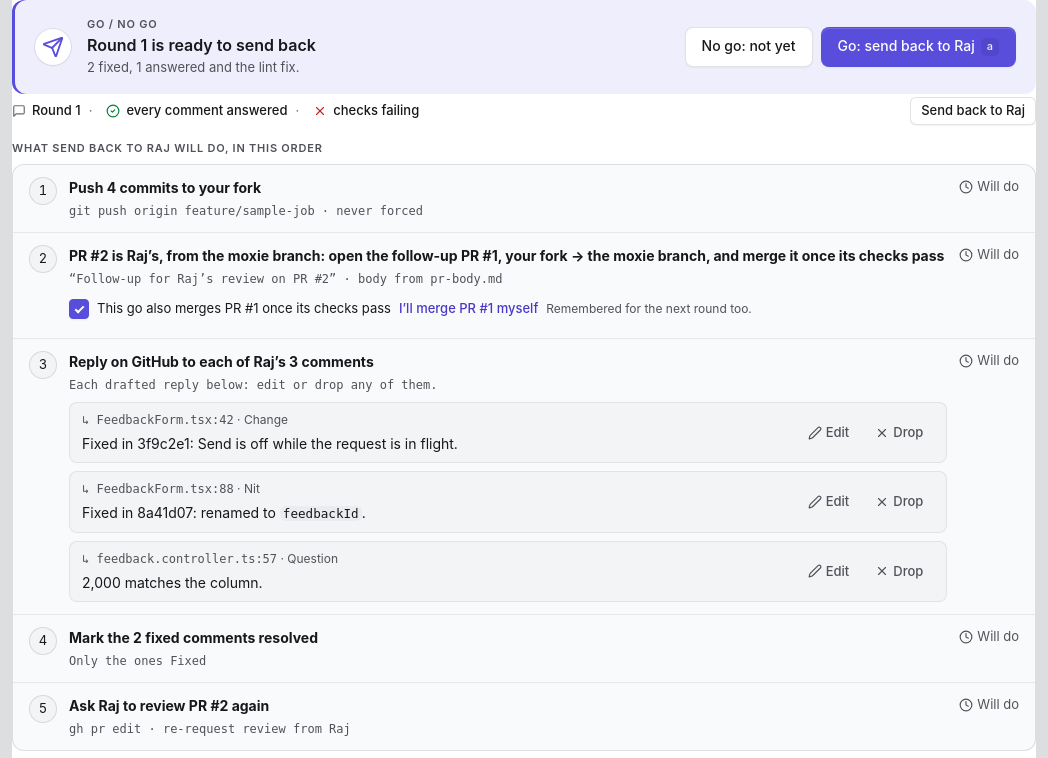
Scenario: ready to send back › a refusal comes back in words under the bar
Step 1. Click the button "Go: send back to Raj a" → (918, 47), box left=821, top=27, right=1016, bottom=67
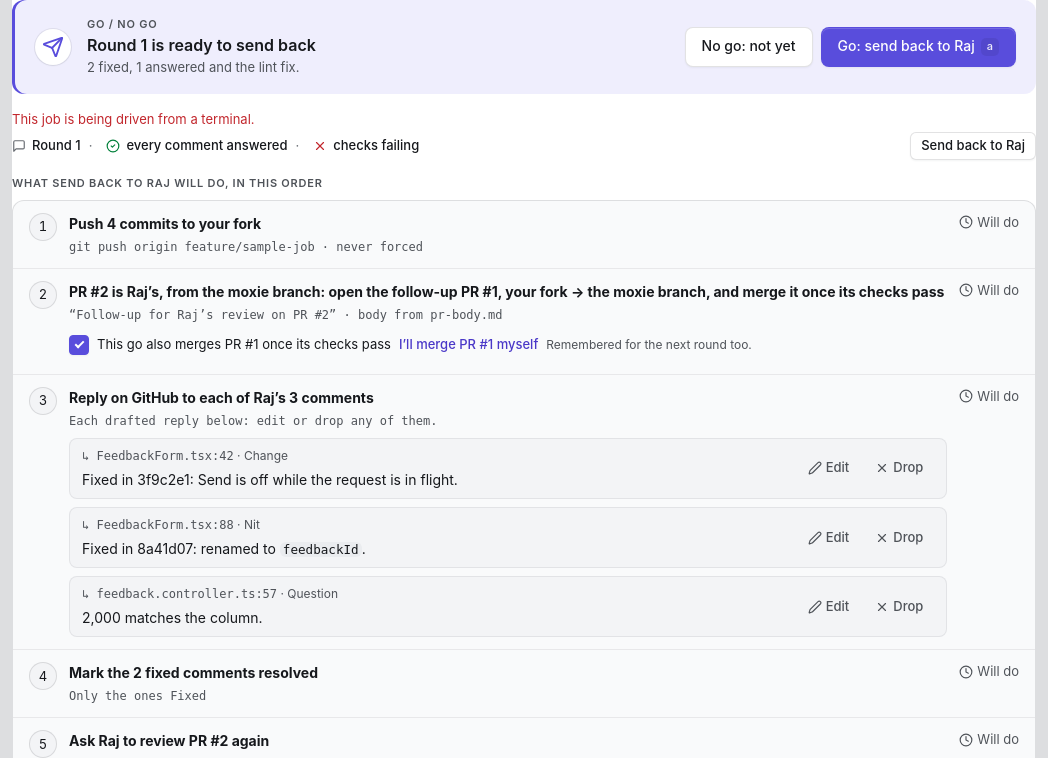
Expected: the message reads "This job is being driven from a terminal.", left=12, top=111, right=255, bottom=127
